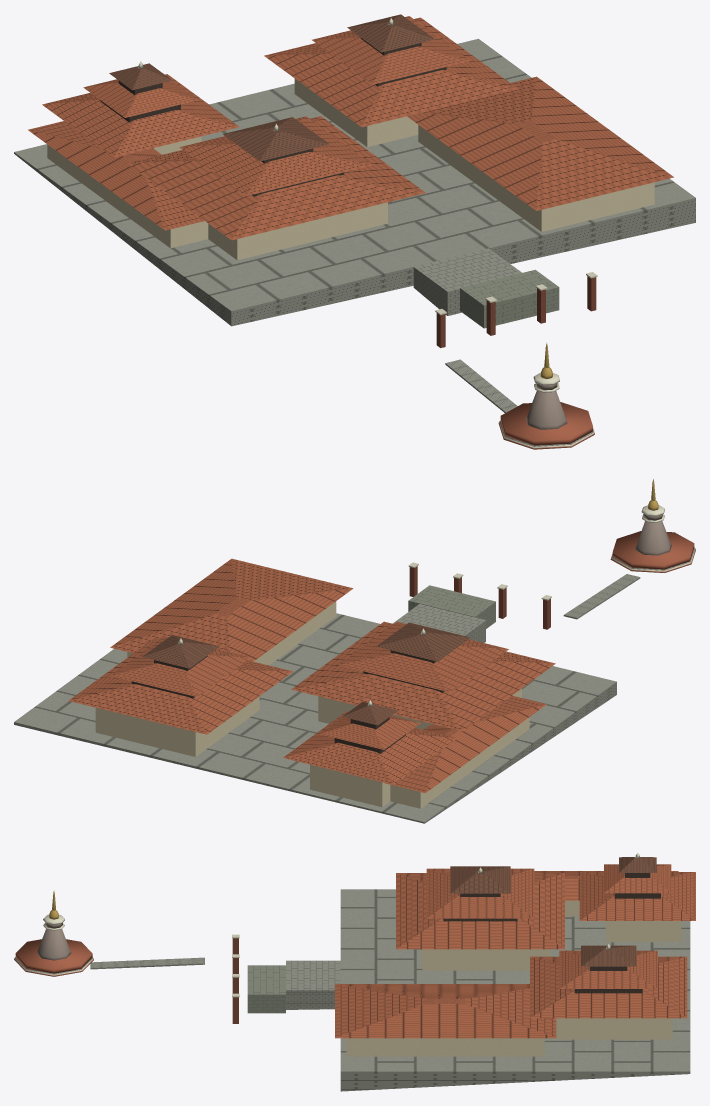
File: phat-lon-lod.glb
The picture shows the model from 3 angles, top to bottom: view 1: azimuth 30°, elevation 25°; view 2: azimuth 150°, elevation 25°; view 3: azimuth 270°, elevation 25°; orthographic projection. The views are drawn at different scales.
Visible parts, largest first — view 1: phat-lon-far; view 2: phat-lon-far; view 3: phat-lon-far.
Part boxes in pixels (<box>): phat-lon-far: <box>14,14,695,449</box>; phat-lon-far: <box>14,479,695,823</box>; phat-lon-far: <box>14,853,695,1091</box>.
Bounding box in the file's own units: 74 × 19.32 × 117.
1 material, 1 textured.
